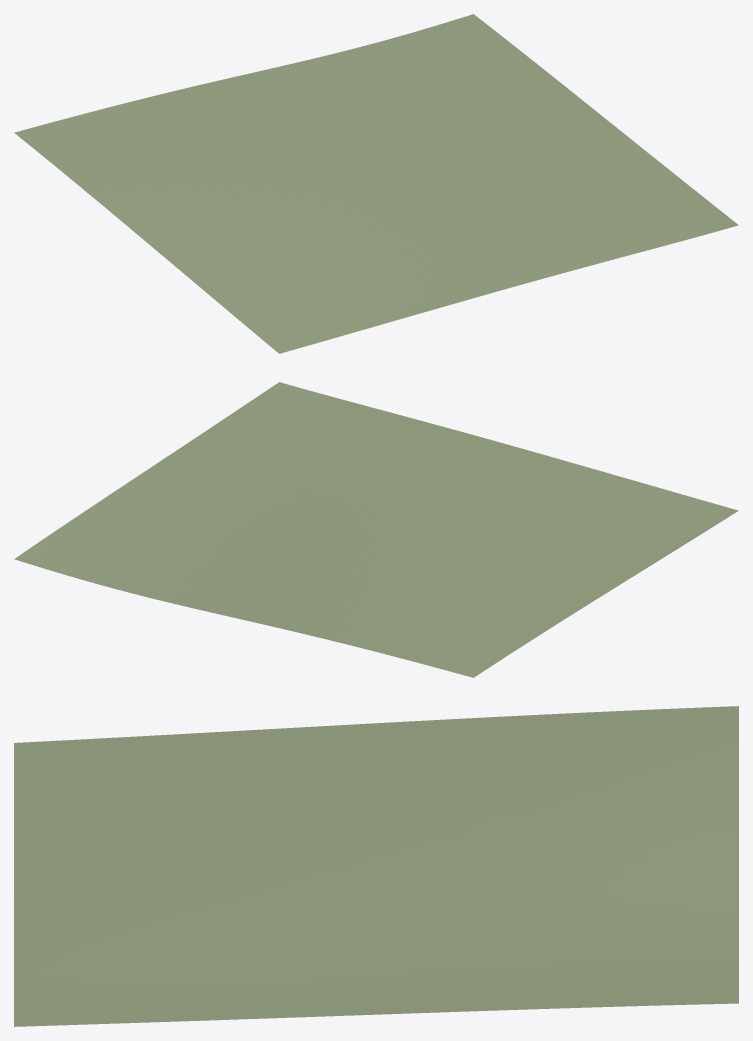
The model's file is desert-9-18.glb.
The picture shows the model from 3 angles, top to bottom: view 1: azimuth 30°, elevation 25°; view 2: azimuth 150°, elevation 25°; view 3: azimuth 270°, elevation 25°; orthographic projection. The views are drawn at different scales.
Parts seen in each view (by area): view 1: desert-9-18; view 2: desert-9-18; view 3: desert-9-18.
Part boxes in pixels (box(x1,y1,x2,y2)): desert-9-18: box(14, 14, 738, 353); desert-9-18: box(14, 382, 738, 677); desert-9-18: box(14, 706, 738, 1026).
Bounding box in the file's own units: 512 × 35.68 × 512.
